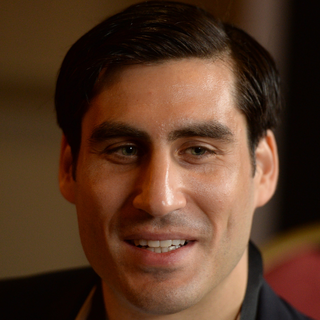eye: (98, 138, 144, 162), (172, 139, 220, 161)
